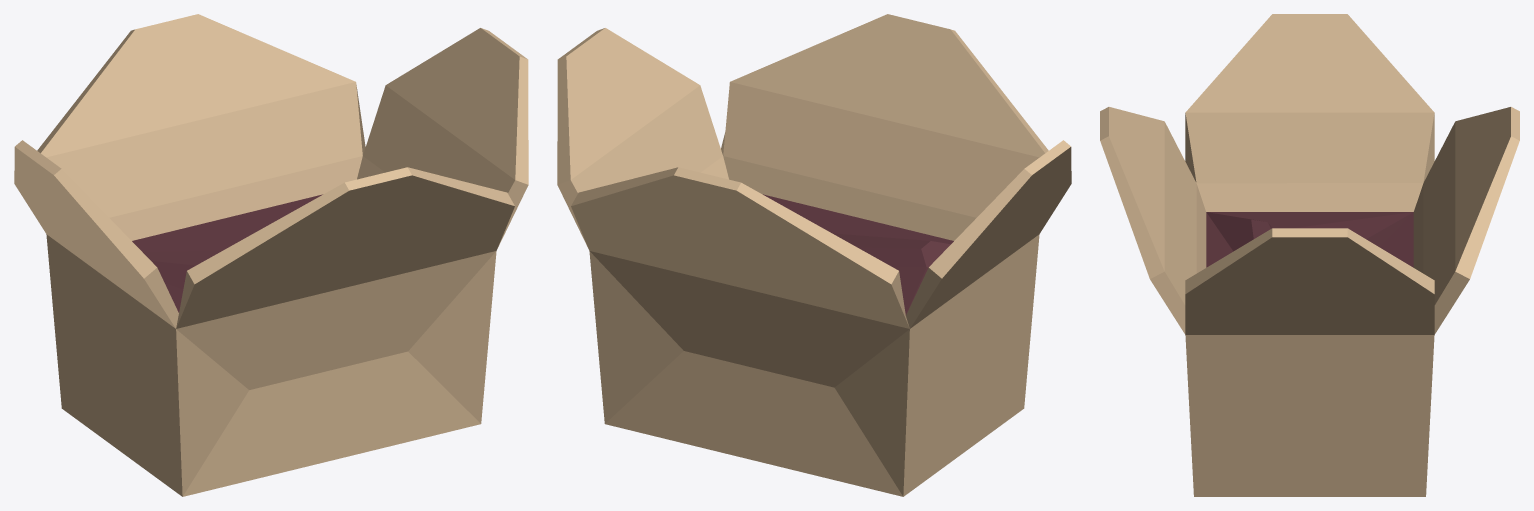
The model's file is container-take.fbx.
3 renders of one model, left to right at view 1: azimuth 30°, elevation 25°; view 2: azimuth 150°, elevation 25°; view 3: azimuth 270°, elevation 25°, orthographic. The views are drawn at different scales.
Visible parts, largest first — view 1: container-take; view 2: container-take; view 3: container-take.
Part boxes in pixels (x1,y1,x2,y2): container-take: (14,14,528,496); container-take: (557,14,1071,496); container-take: (1100,14,1519,496).
Bounding box in the file's own units: 0.2775 × 0.178 × 0.2214.
